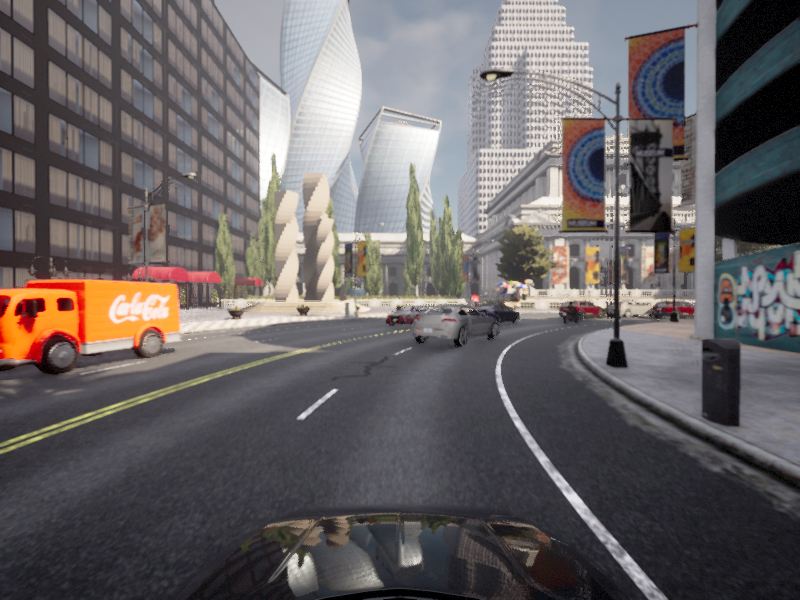vehicle: (404, 303, 502, 350), (463, 302, 523, 327), (381, 304, 442, 328), (703, 300, 774, 318), (646, 300, 709, 320), (601, 299, 659, 318), (554, 300, 608, 320), (653, 302, 717, 317), (559, 301, 585, 324)
